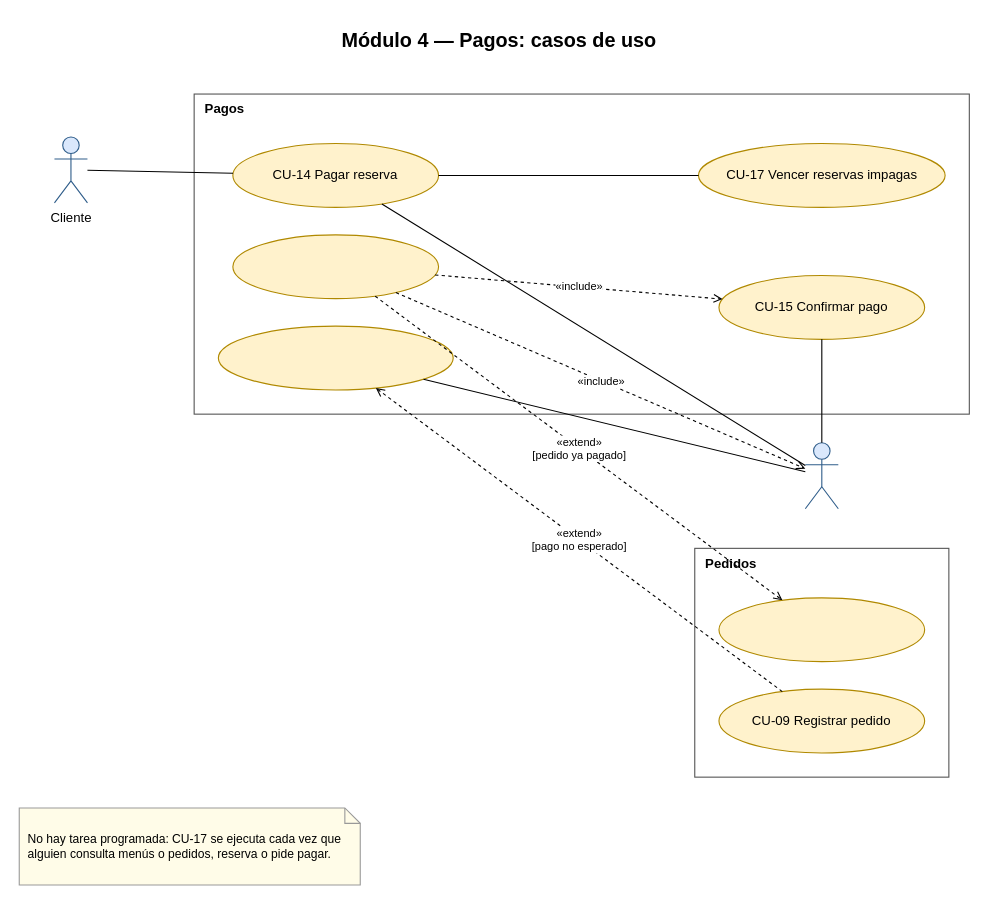
The diagram is 998 pixels wide and 904 high, and some of its shapes have lost their labels. Here are the shapes that lost their labels. From the top down, the centre of each, then its label:
At pixel 335 266: "CU-16 Devolver pago".
At pixel 335 357: "CU-13 Generar orden de pago".
At pixel 821 475: "Mercado Pago «sistema externo»".
At pixel 821 629: "CU-11 Cancelar pedido".
